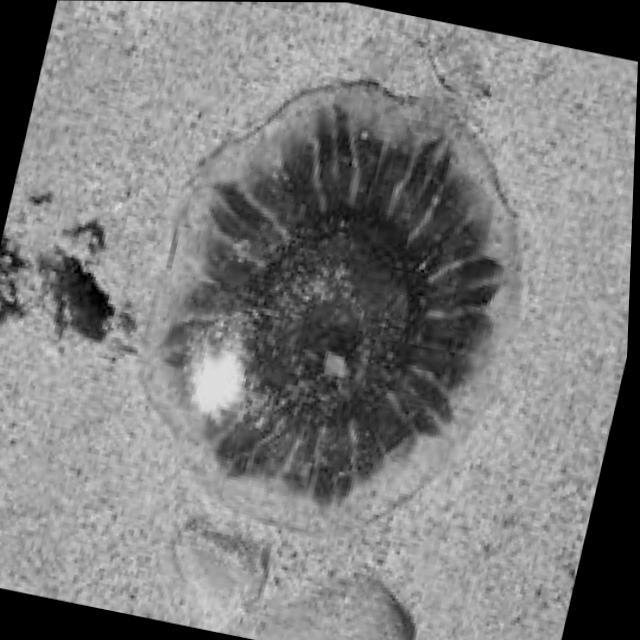Box-jellyfish: (105, 50, 563, 565)
